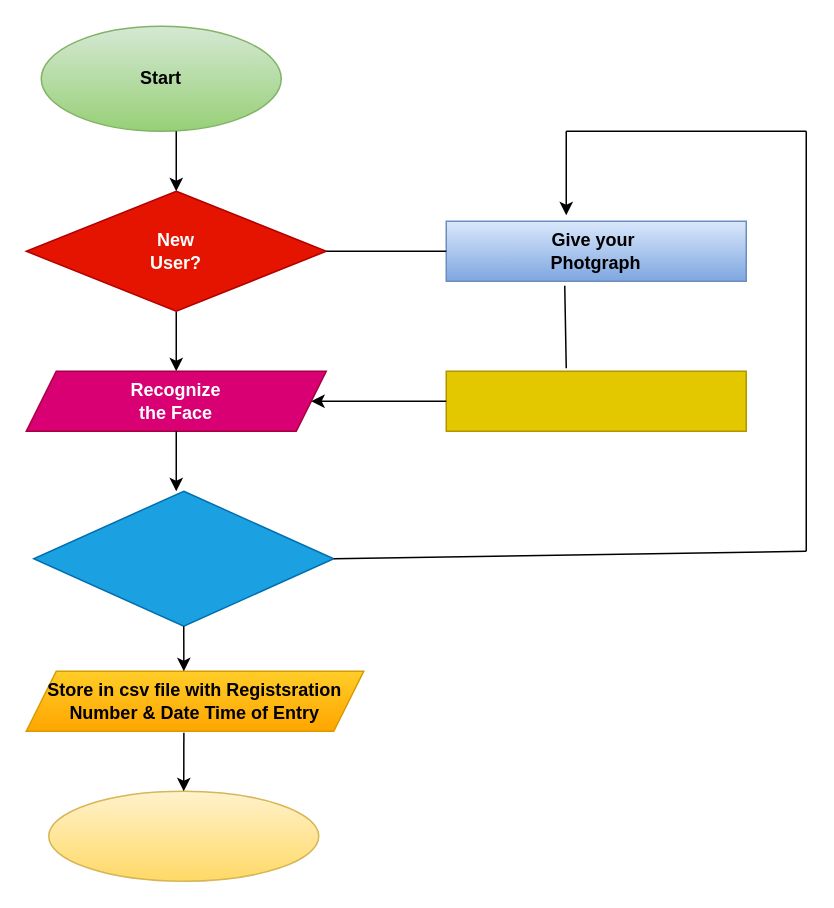
Image size: 834x908. Some labels were removed from this diagram. The shapes that lost their labels are listed below. From the top down, each one's centre as x and y in pixels, then its label:
point 595,400: Store the face data in folder on your name
point 183,558: Face Recognized
point 183,835: End
